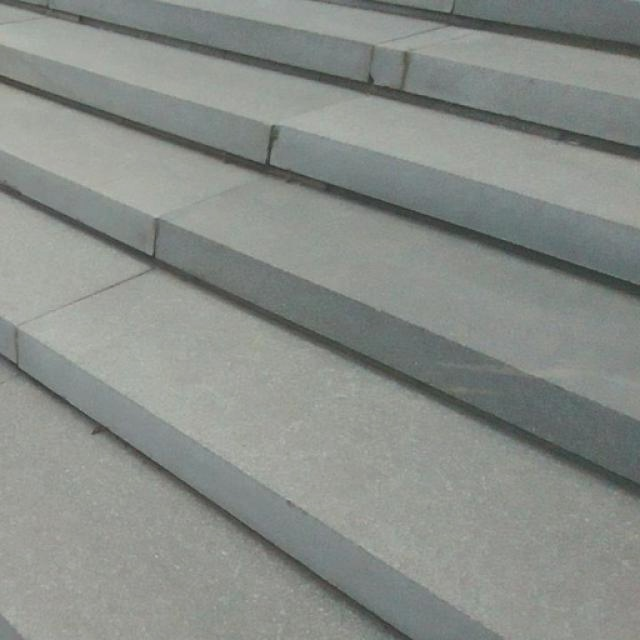stair: (27, 0, 640, 616)
